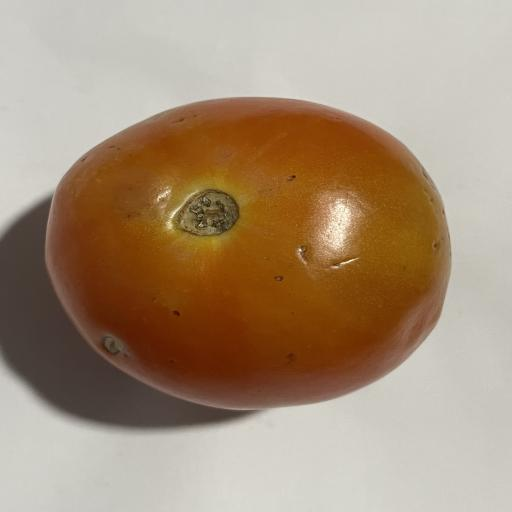unripe: (46, 98, 451, 409)
